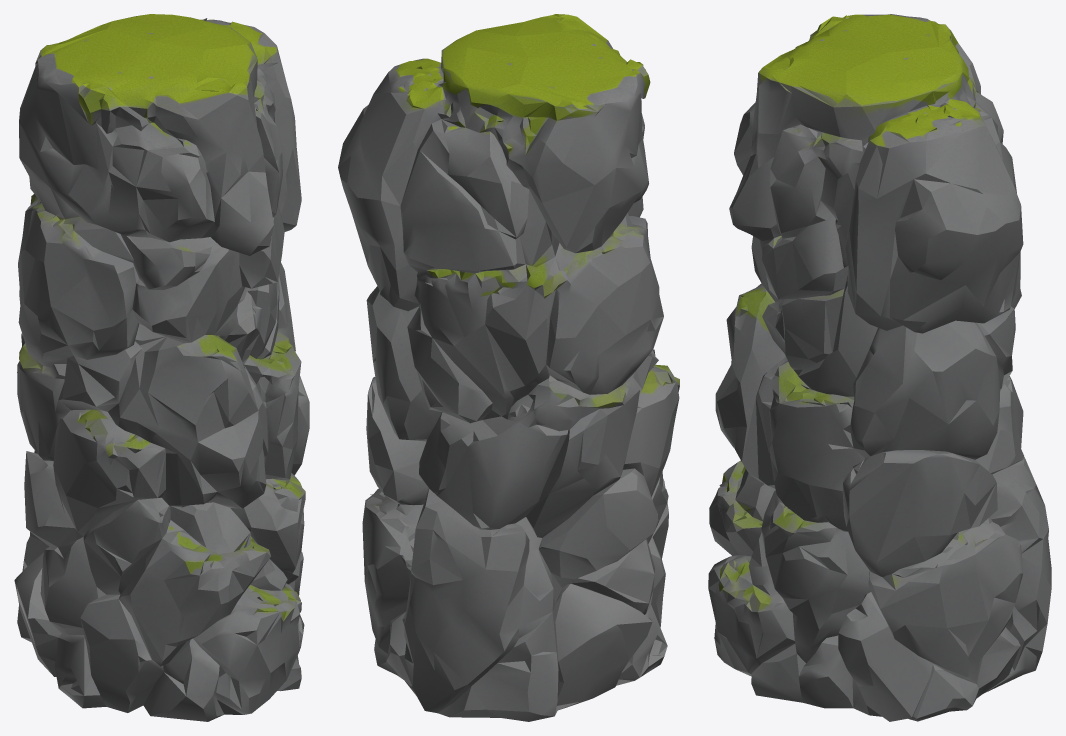
File: cliff.glb
3 renders of one model, left to right at view 1: azimuth 30°, elevation 25°; view 2: azimuth 150°, elevation 25°; view 3: azimuth 270°, elevation 25°, orthographic. The views are drawn at different scales.
Size of the model in its own units: 0.9037 by 1.87 by 0.9647.
Materials: 1 (1 with a texture image).
